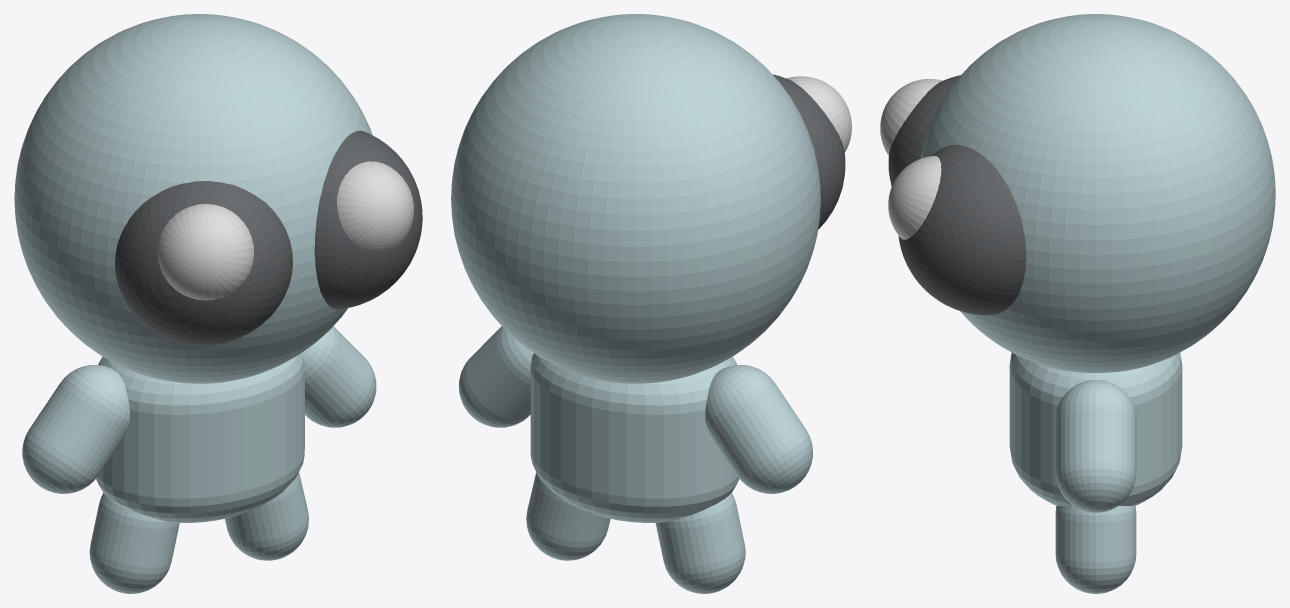
File: caasi.glb
3 views of the same model, side by side, from view 1: azimuth 30°, elevation 25°; view 2: azimuth 150°, elevation 25°; view 3: azimuth 270°, elevation 25° (orthographic). The views are drawn at different scales.
Parts seen in each view (by area): view 1: Mesh_Mesh_head_geo.001_lambert2SG.001; view 2: Mesh_Mesh_head_geo.001_lambert2SG.001; view 3: Mesh_Mesh_head_geo.001_lambert2SG.001.
Boxes of the visible parts, x1,y1,x2,y2 form: Mesh_Mesh_head_geo.001_lambert2SG.001: [14, 14, 422, 593]; Mesh_Mesh_head_geo.001_lambert2SG.001: [451, 14, 851, 593]; Mesh_Mesh_head_geo.001_lambert2SG.001: [880, 14, 1275, 593].
Bounding box in the file's own units: 0.0429 × 0.0647 × 0.044.
